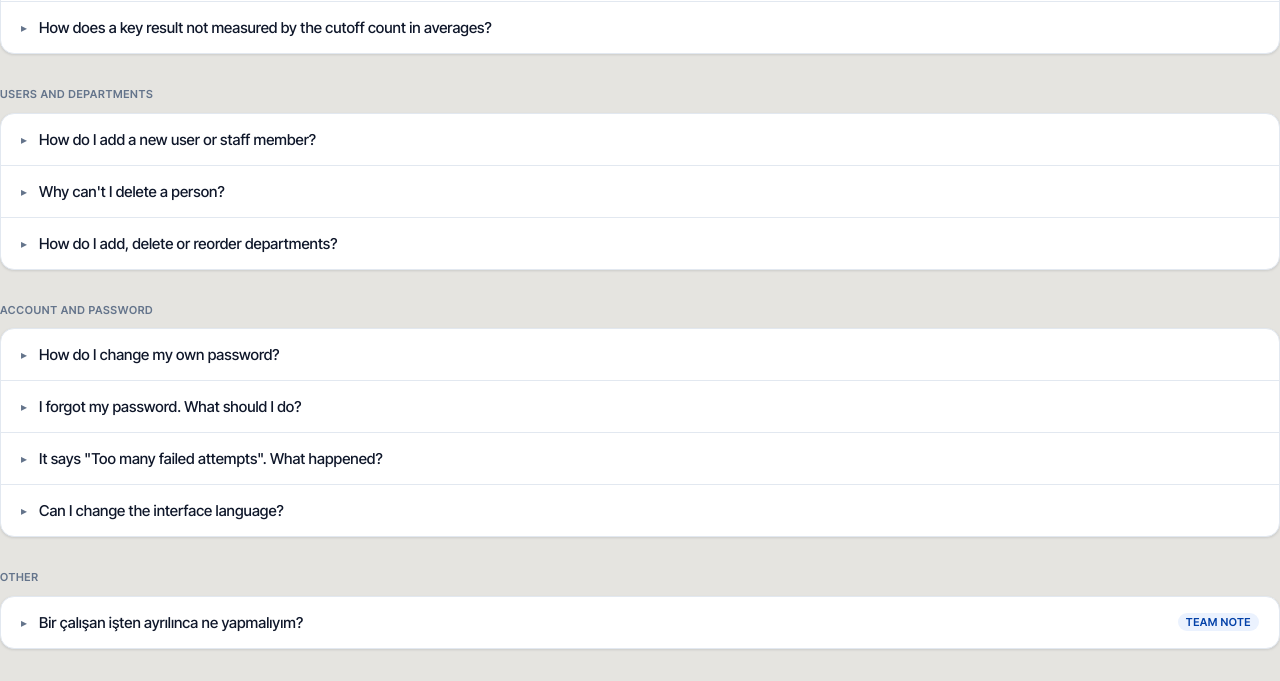
Test: opening an entry in English shows the English answer
This screenshot has width=1280, height=681.
(page scrolled)
Click the text "How do I change my own password?" at (159, 354), box [39,345,280,364]
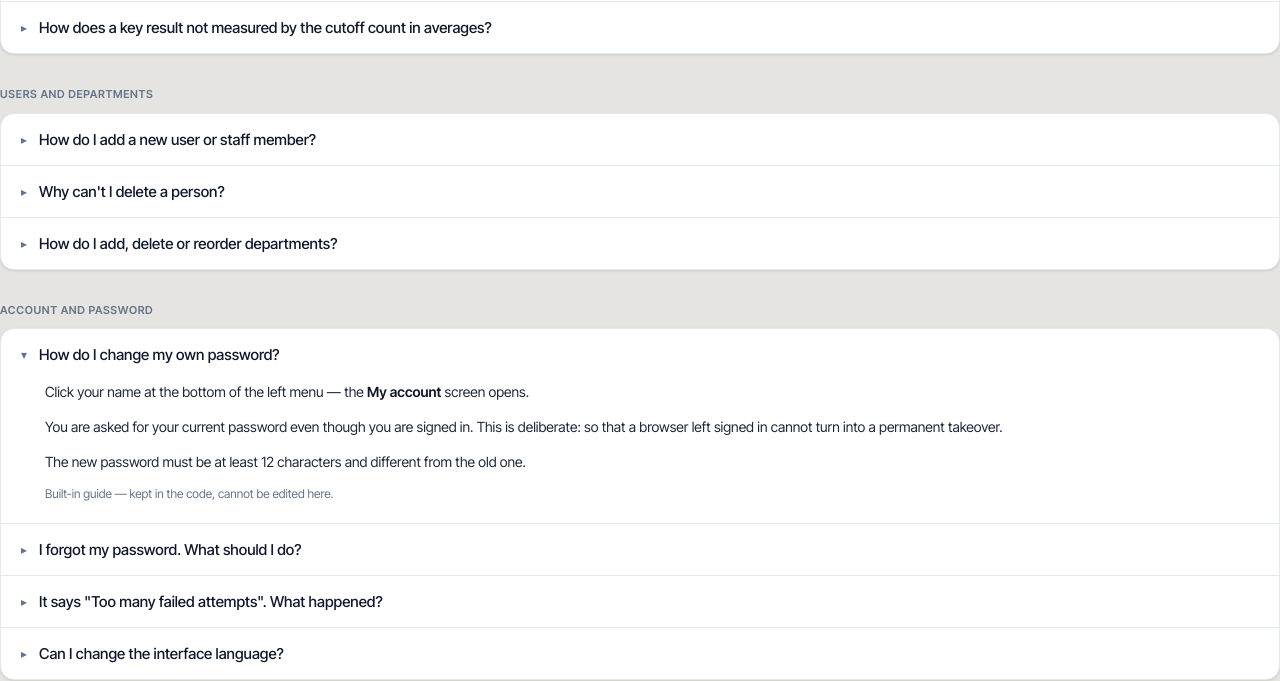
Now the text "Built-in guide — kept in the code, cannot be edited here." is shown, box [45,486,333,501]
